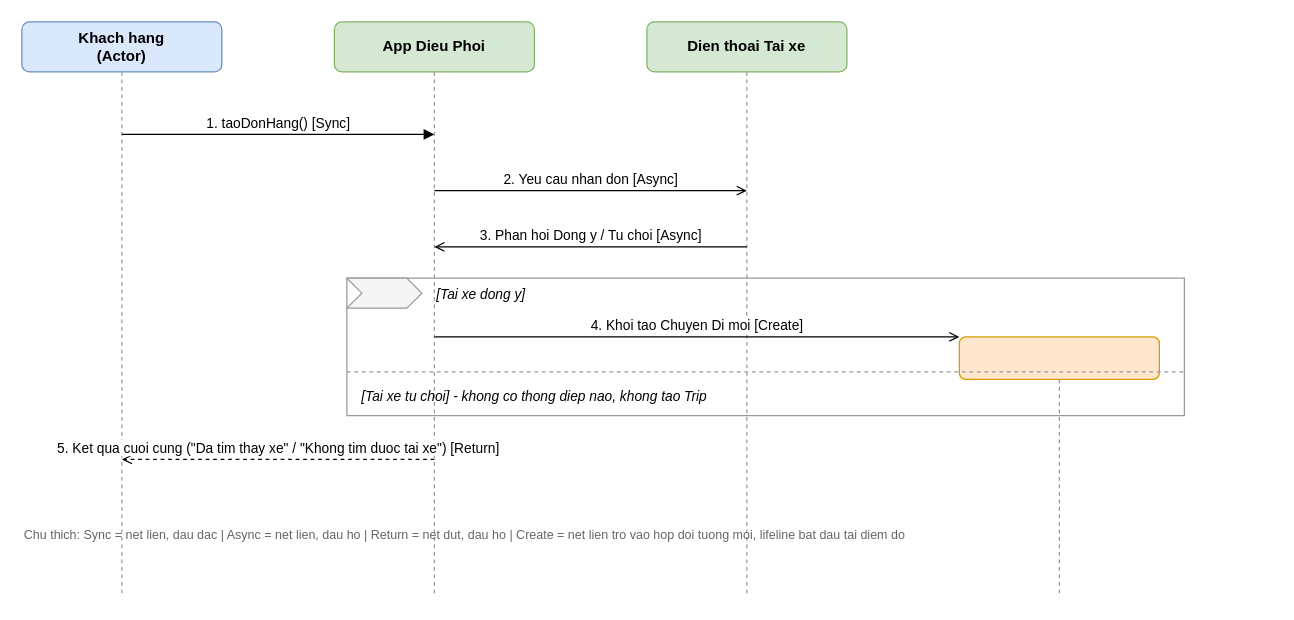
The diagram is 1294 pixels wide and 620 high, and some of its shapes have lost their labels. The shapes that lost their labels are listed below. From the top down, each one's centre as x and y in pixels, then its label:
At (x=384, y=292): "alt".
At (x=1058, y=357): "Chuyen Di (Trip)".
